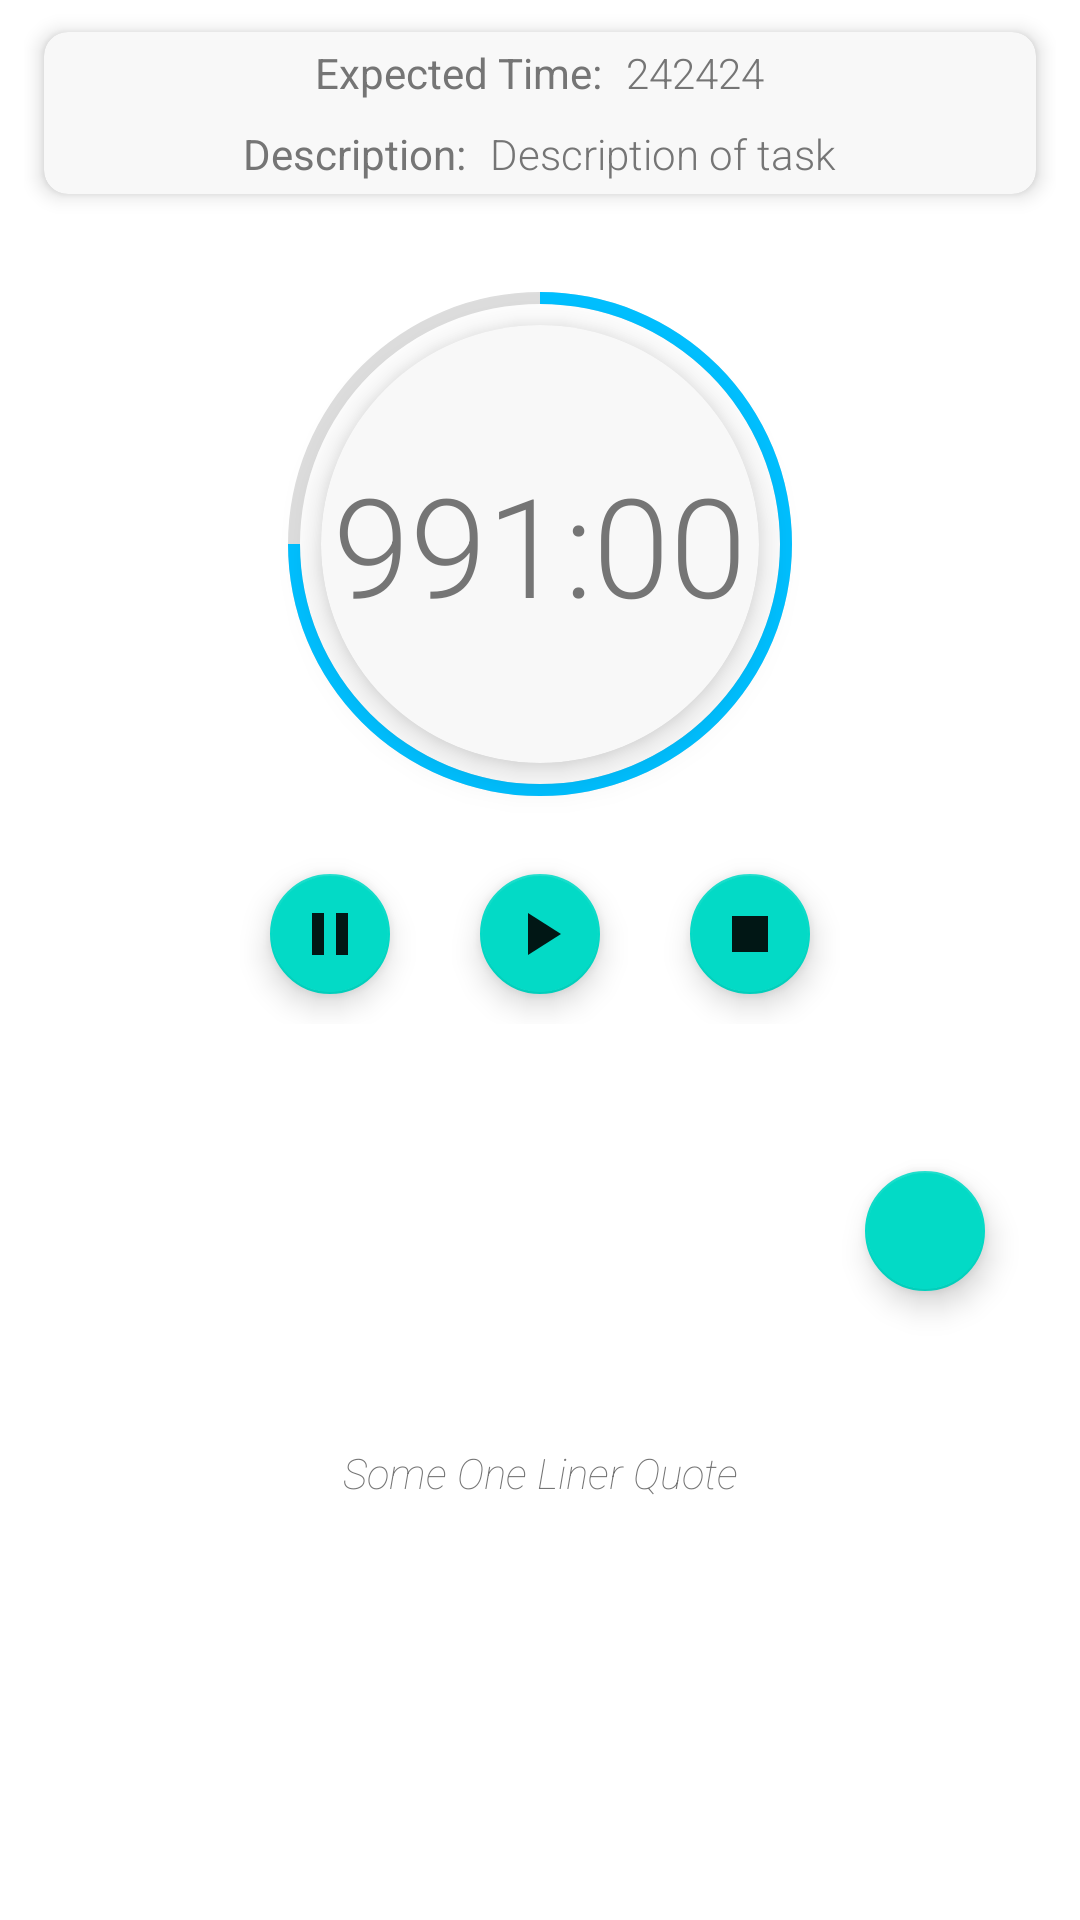

Icon click points for this 1080x1920 phone screenshot, format (x=x, y=y):
Pause Timer: (x=329, y=937)
start timer: (x=540, y=937)
Stop Timer: (x=750, y=937)
